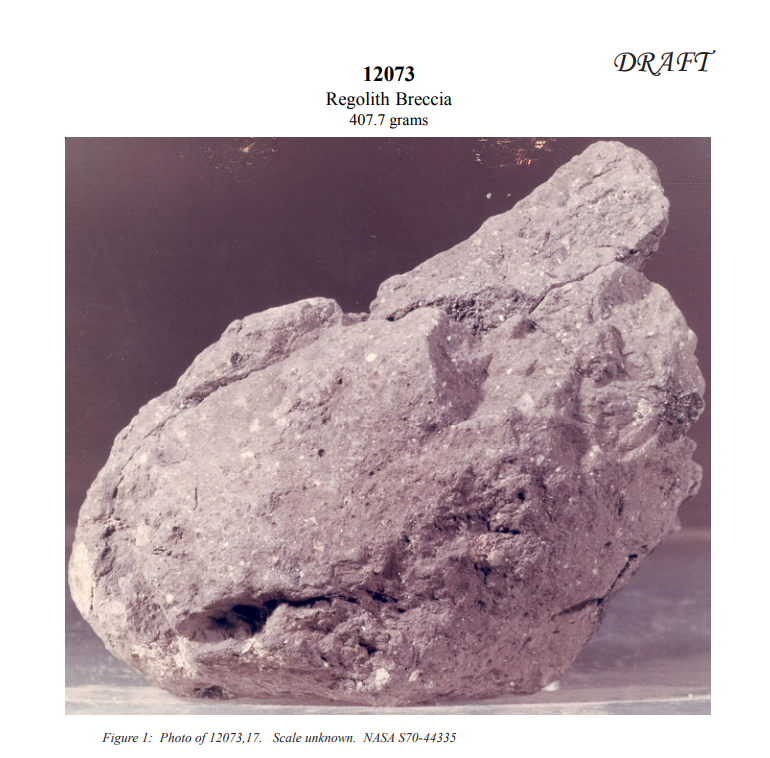Breccia: (73, 139, 709, 703)
